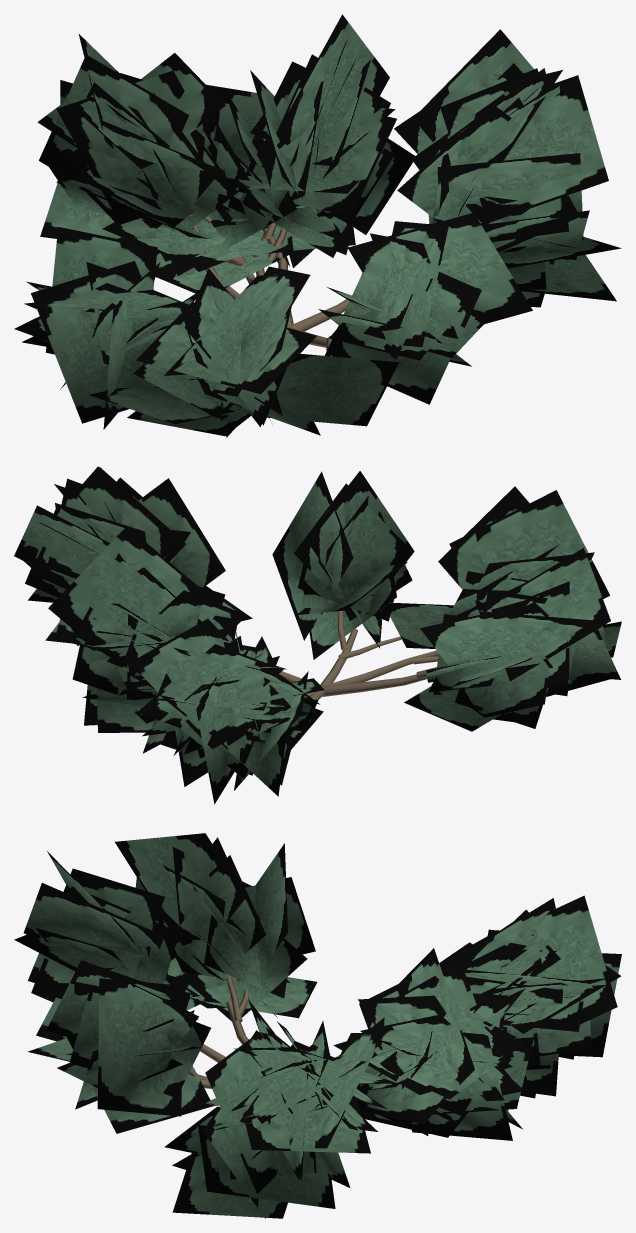
File: juniper_2.glb
3 renders of one model, top to bottom at view 1: azimuth 30°, elevation 25°; view 2: azimuth 150°, elevation 25°; view 3: azimuth 270°, elevation 25°, orthographic. The views are drawn at different scales.
Parts seen in each view (by area): view 1: juniper_2; view 2: juniper_2; view 3: juniper_2.
Boxes of the visible parts, <box> form: juniper_2: <box>14,14,621,437</box>; juniper_2: <box>14,466,621,804</box>; juniper_2: <box>14,833,621,1218</box>.
Bounding box in the file's own units: 3.63 × 1.25 × 3.25.
Materials: 2 (1 with a texture image).
